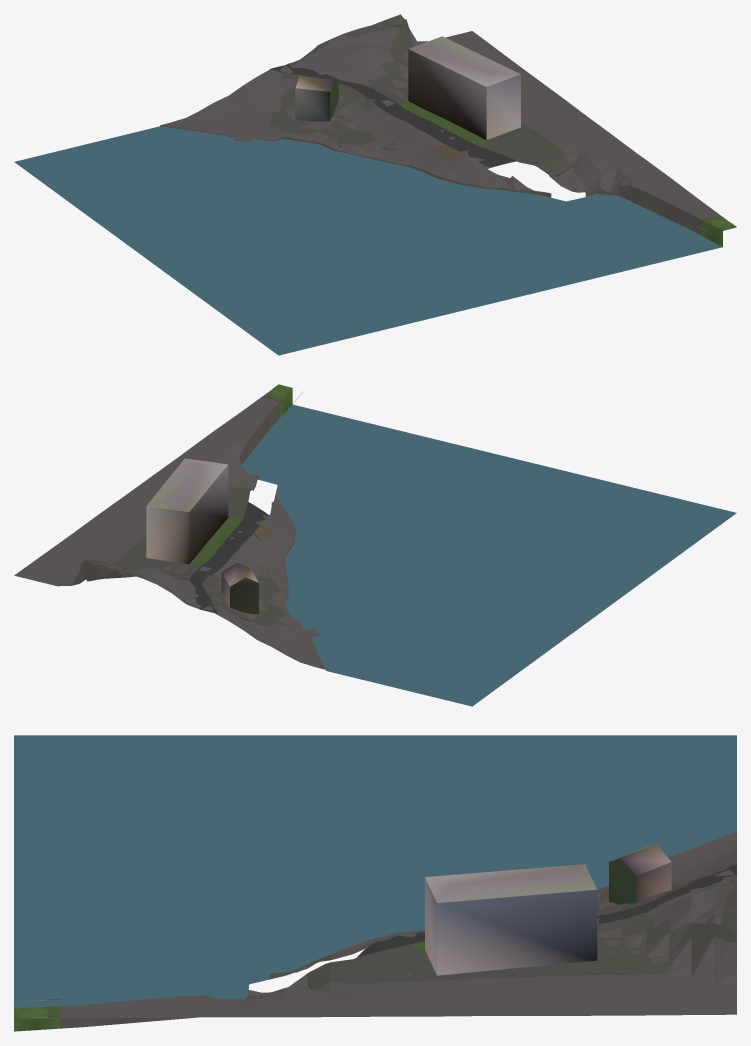
3 renders of one model, top to bottom at view 1: azimuth 30°, elevation 25°; view 2: azimuth 150°, elevation 25°; view 3: azimuth 270°, elevation 25°, orthographic. The views are drawn at different scales.
Parts seen in each view (by area): view 1: c_m07_m10, append:c_m07_m10; view 2: c_m07_m10, append:c_m07_m10; view 3: c_m07_m10, append:c_m07_m10.
Boxes of the visible parts, box(x1,y1,x2,y2) form: c_m07_m10: box(14, 14, 736, 355); append:c_m07_m10: box(160, 125, 722, 246); c_m07_m10: box(14, 384, 736, 706); append:c_m07_m10: box(239, 388, 326, 670); c_m07_m10: box(14, 735, 736, 1018); append:c_m07_m10: box(14, 961, 319, 1031).
Bounding box in the file's own units: 128 × 19.36 × 128.
